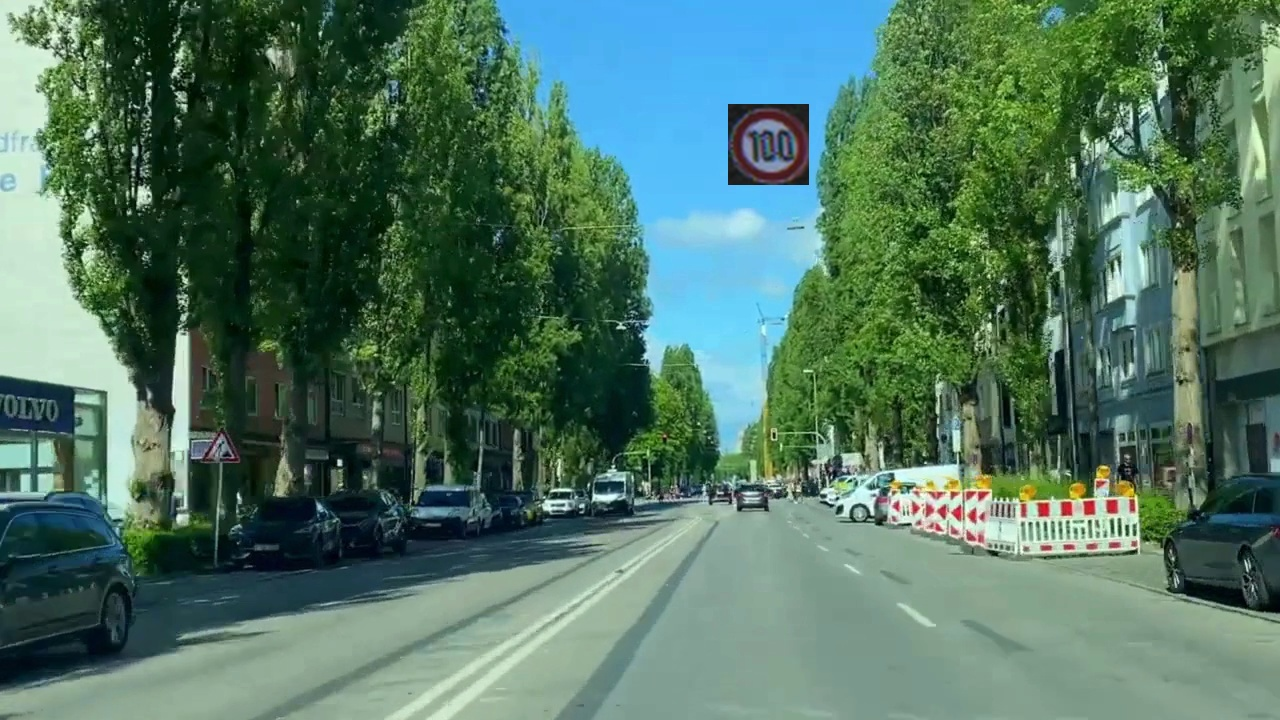Speed 100: (728, 104, 809, 185)
